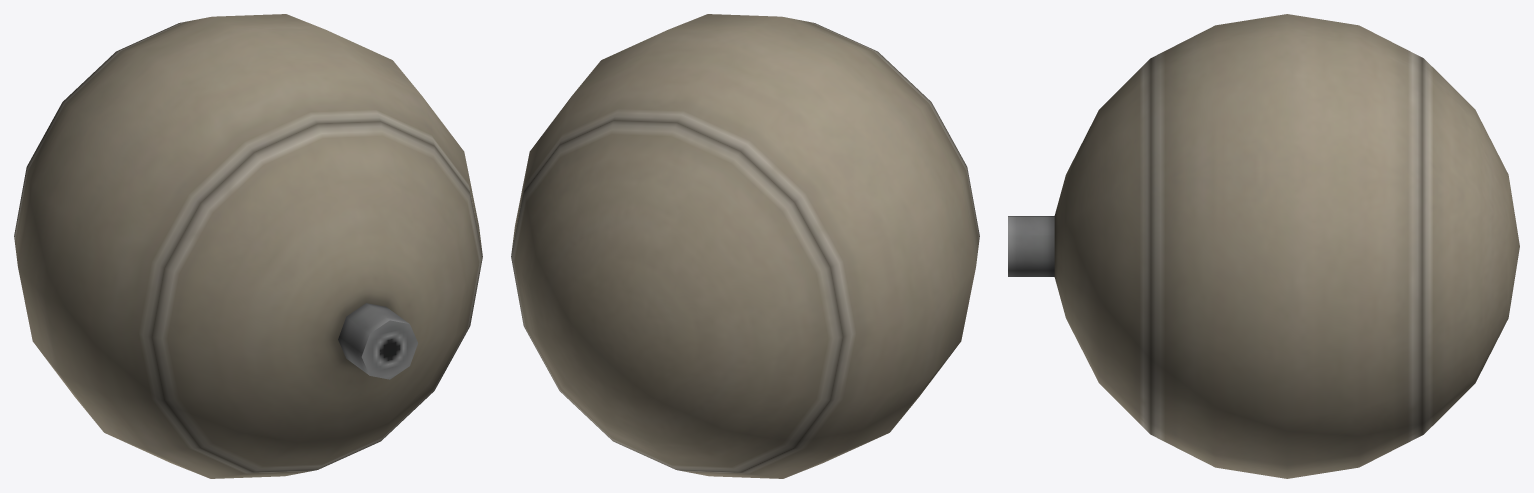
File: Ara_MonoSphere_1.obj
3 renders of one model, left to right at view 1: azimuth 30°, elevation 25°; view 2: azimuth 150°, elevation 25°; view 3: azimuth 270°, elevation 25°, orthographic.
Parts seen in each view (by area): view 1: Ara_MonoSphere_1; view 2: Ara_MonoSphere_1; view 3: Ara_MonoSphere_1.
Boxes of the visible parts, box(x1,y1,x2,y2) form: Ara_MonoSphere_1: box(14, 14, 482, 478); Ara_MonoSphere_1: box(511, 14, 979, 478); Ara_MonoSphere_1: box(1008, 14, 1519, 478).
Bounding box in the file's own units: 0.45 × 0.45 × 0.495.
